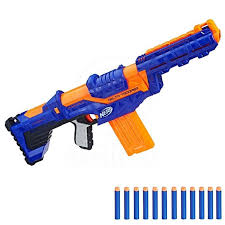Arma Falsa: (6, 19, 220, 165)
